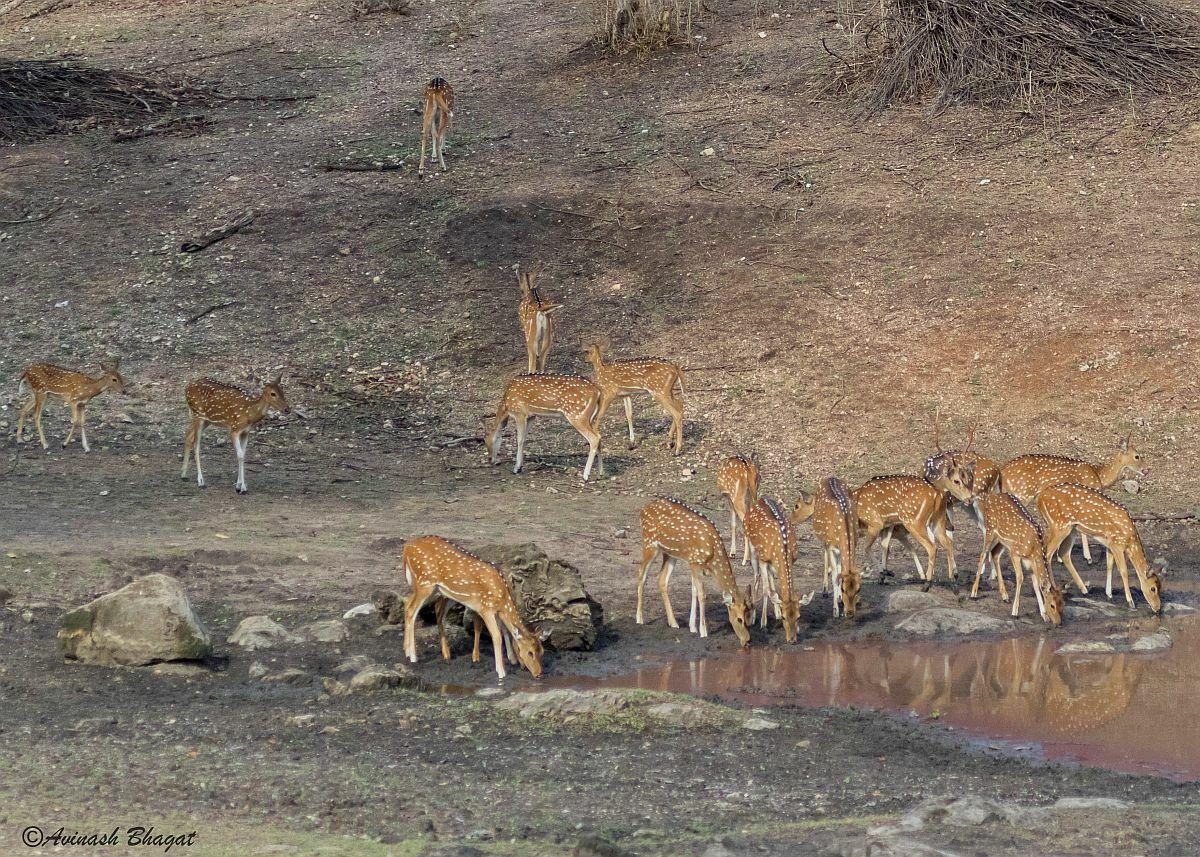Deer: (403, 535, 542, 678), (636, 497, 749, 645), (1037, 484, 1160, 613), (181, 378, 296, 492), (484, 373, 600, 480), (969, 493, 1061, 624), (581, 338, 683, 453), (852, 474, 955, 583), (744, 497, 812, 642), (996, 440, 1149, 504), (16, 361, 124, 451), (809, 476, 860, 617), (924, 430, 999, 505), (514, 265, 563, 373), (419, 76, 453, 175)
